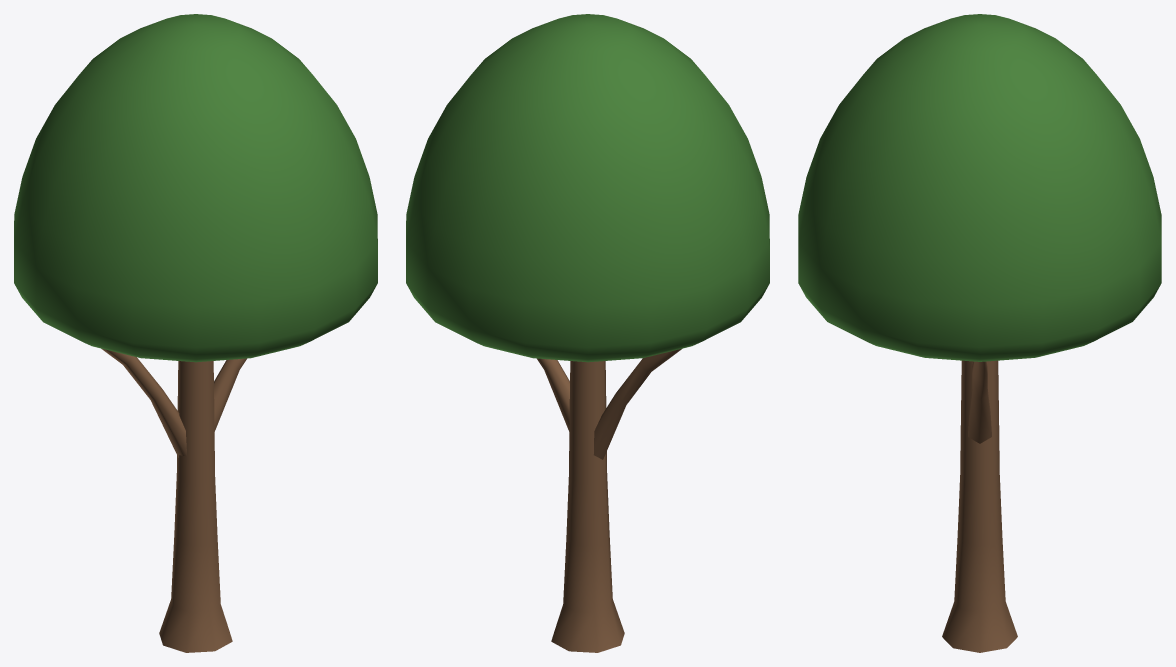
Rendered from SM_tree_standard_02.fbx.
The picture shows the model from 3 angles, left to right: view 1: azimuth 30°, elevation 25°; view 2: azimuth 150°, elevation 25°; view 3: azimuth 270°, elevation 25°; orthographic projection.
Parts seen in each view (by area): view 1: Object038; view 2: Object038; view 3: Object038.
Part boxes in pixels (x1,y1,x2,y2): Object038: (14, 14, 377, 652); Object038: (406, 14, 769, 652); Object038: (798, 14, 1161, 652).
Size of the model in its own units: 94.97 by 174 by 93.54.
